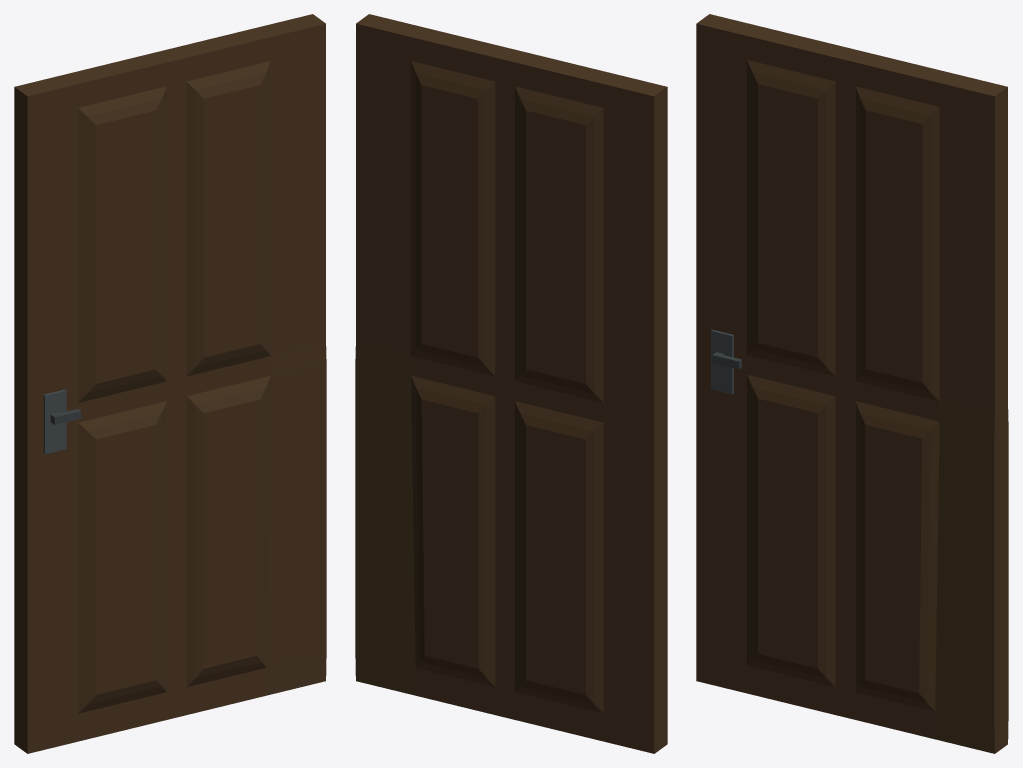
File: DoorForBuildingUPDATED.fbx
3 renders of one model, left to right at view 1: azimuth 30°, elevation 25°; view 2: azimuth 150°, elevation 25°; view 3: azimuth 330°, elevation 25°, orthographic.
Visible parts, largest first — view 1: Cube, Cube.001; view 2: Cube; view 3: Cube, Cube.001.
Boxes of the visible parts, <box> form: Cube: <box>14,14,326,753</box>; Cube.001: <box>43,389,66,454</box>; Cube: <box>355,14,667,753</box>; Cube: <box>696,14,1008,753</box>; Cube.001: <box>711,329,733,394</box>.
Size of the model in its own units: 329 by 693 by 42.62.
